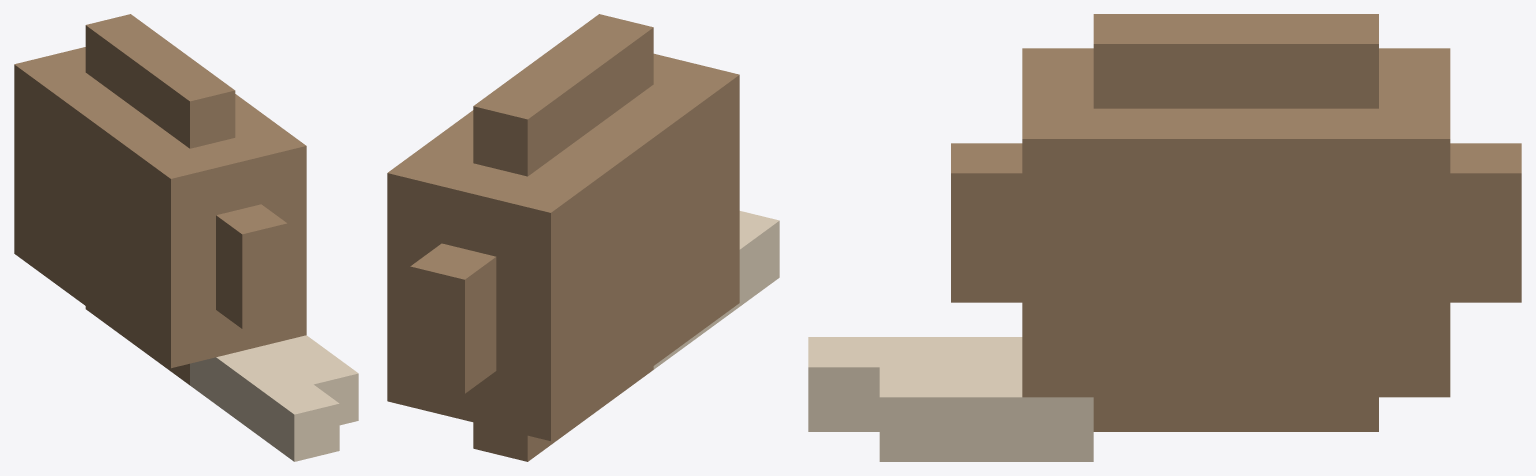
File: rabbit__leg_br.glb
The picture shows the model from 3 angles, left to right: view 1: azimuth 30°, elevation 25°; view 2: azimuth 150°, elevation 25°; view 3: azimuth 270°, elevation 25°; orthographic projection. The views are drawn at different scales.
Visible parts, largest first — view 1: rabbit__leg_br; view 2: rabbit__leg_br; view 3: rabbit__leg_br.
Part boxes in pixels (x1,y1,x2,y2): rabbit__leg_br: (14,14,358,461); rabbit__leg_br: (387,14,779,461); rabbit__leg_br: (808,14,1521,461).
Bounding box in the file's own units: 0.3 × 0.6 × 1.
Materials: 1 (1 with a texture image).
